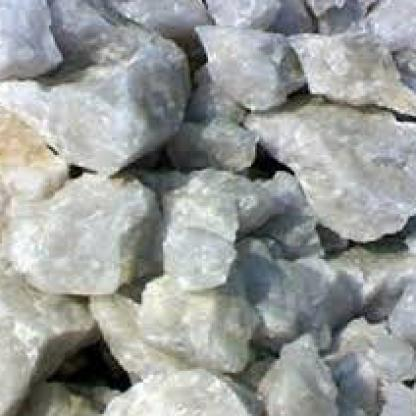Metamorphic_Quartize: (0, 0, 196, 181), (245, 91, 414, 242), (0, 186, 163, 300), (80, 357, 267, 414), (257, 330, 347, 412)
